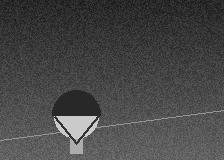helmet: (52, 90, 100, 143)
